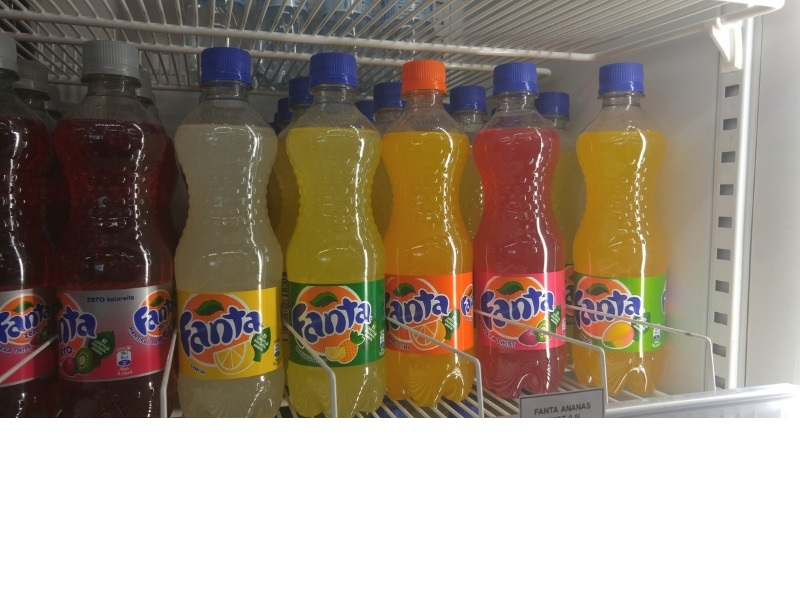lemonade: (48, 33, 181, 430), (274, 48, 403, 440), (164, 39, 285, 429), (455, 52, 583, 408), (372, 55, 489, 412), (570, 47, 675, 406)
